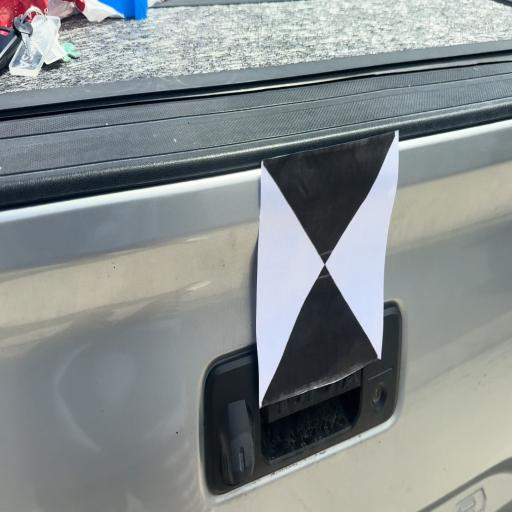target: (260, 131, 398, 407)
